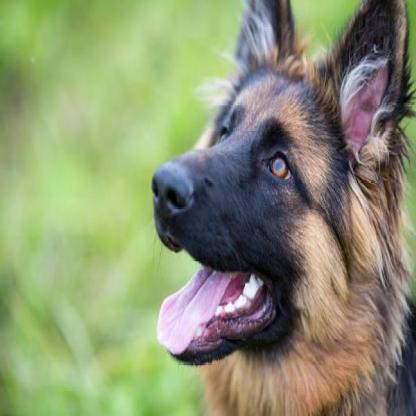dog: (148, 9, 416, 416)
